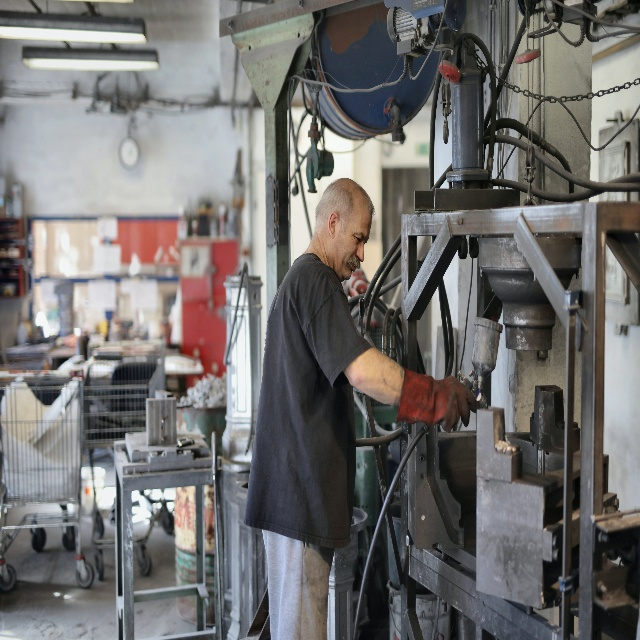Guantes: (395, 361, 479, 433)
